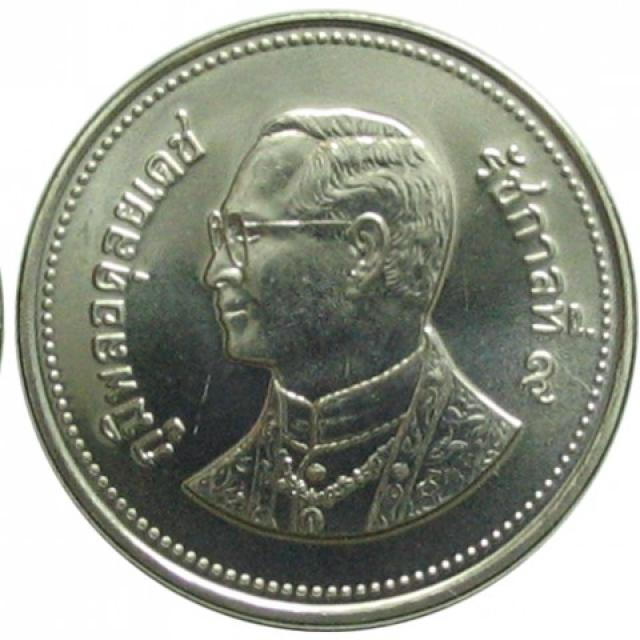2 Bath: (11, 10, 640, 640)
